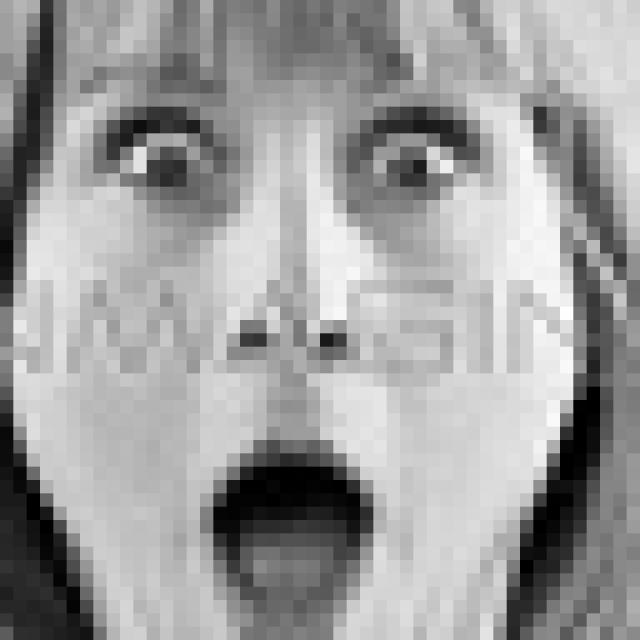surprise: (60, 59, 515, 640)
